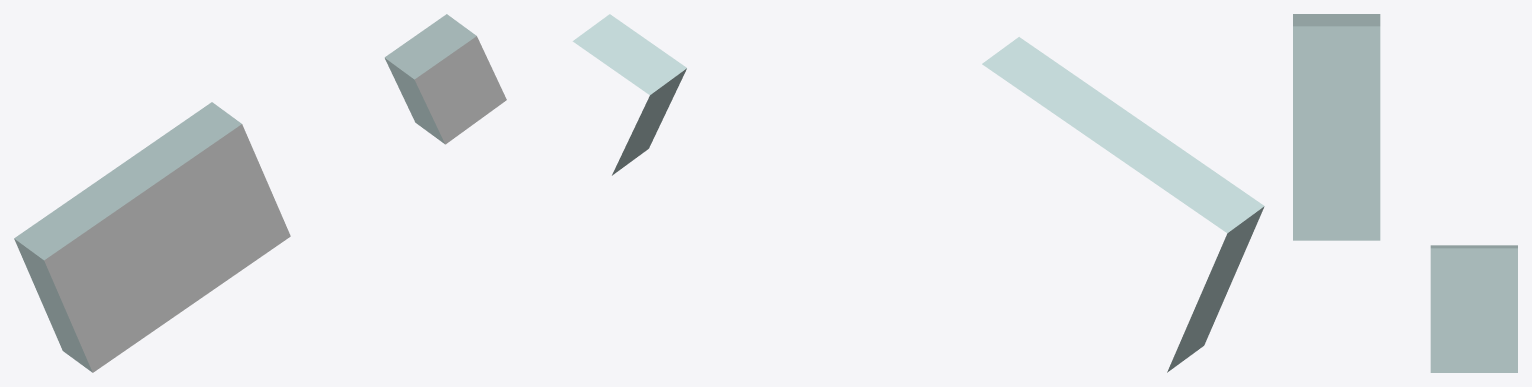
The picture shows the model from 3 angles, left to right: view 1: azimuth 30°, elevation 25°; view 2: azimuth 150°, elevation 25°; view 3: azimuth 270°, elevation 25°; orthographic projection. The views are drawn at different scales.
Visible parts, largest first — view 1: 0_1_1_2_3_1_3_2_2; view 2: 0_1_1_2_3_1_3_2_2; view 3: 0_1_1_2_3_1_3_2_2.
Boxes of the visible parts, <box> form: 0_1_1_2_3_1_3_2_2: <box>14,14,506,372</box>; 0_1_1_2_3_1_3_2_2: <box>572,14,1264,372</box>; 0_1_1_2_3_1_3_2_2: <box>1293,14,1517,372</box>.
Bounding box in the file's own units: 29.38 × 11.69 × 7.74.
